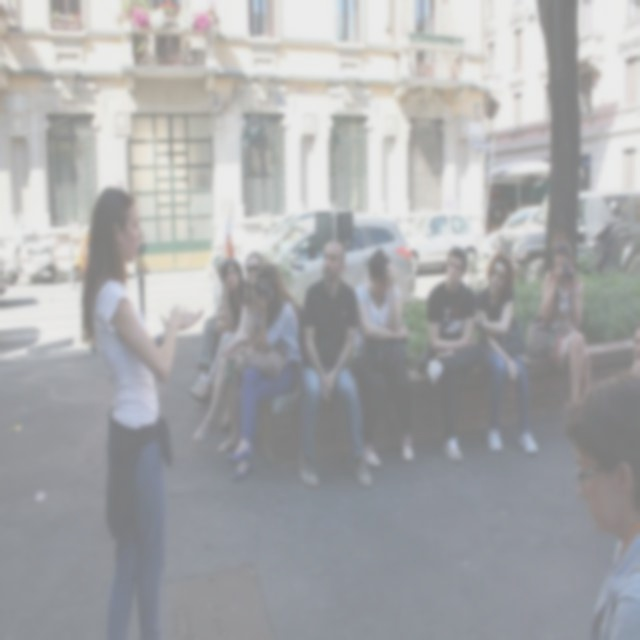pessoa: (76, 181, 209, 638), (558, 360, 639, 638), (292, 237, 374, 488), (222, 258, 306, 486), (414, 242, 488, 464), (192, 250, 266, 454), (471, 247, 542, 457), (349, 246, 416, 467), (536, 226, 594, 414), (190, 258, 243, 400), (191, 254, 228, 396), (628, 319, 639, 382)
